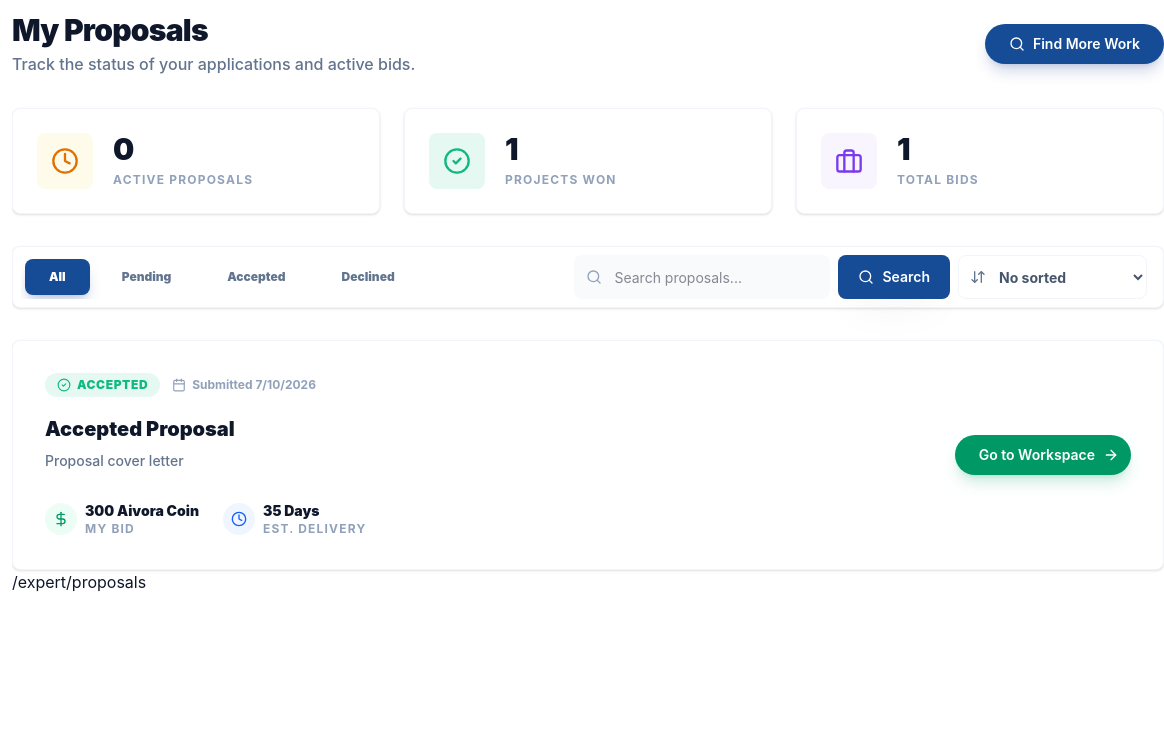
Scenario: ExpertMyProposalsPage › Title navigation › navigates an accepted proposal title to proposal detail instead of workspace
Click the link "Accepted Proposal".
click(140, 430)  # box [45,417,235,442]
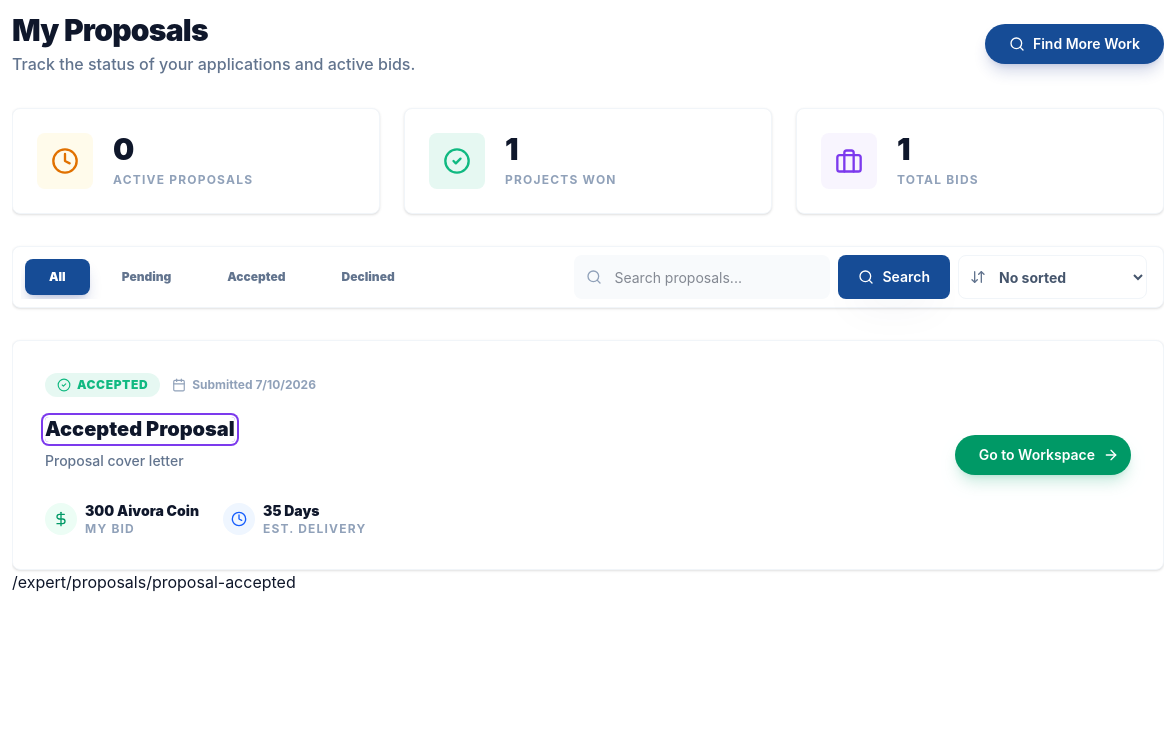
Expected: the text named "current path" reads "/expert/proposals/proposal-accepted", [12,572,296,592]
